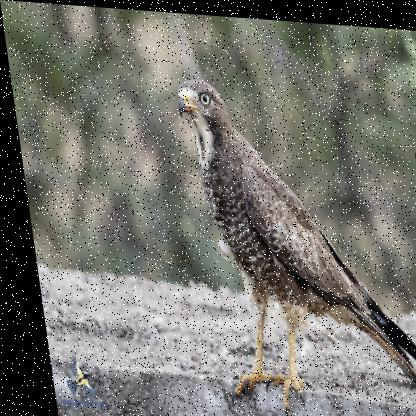Burung: (161, 73, 415, 413)
